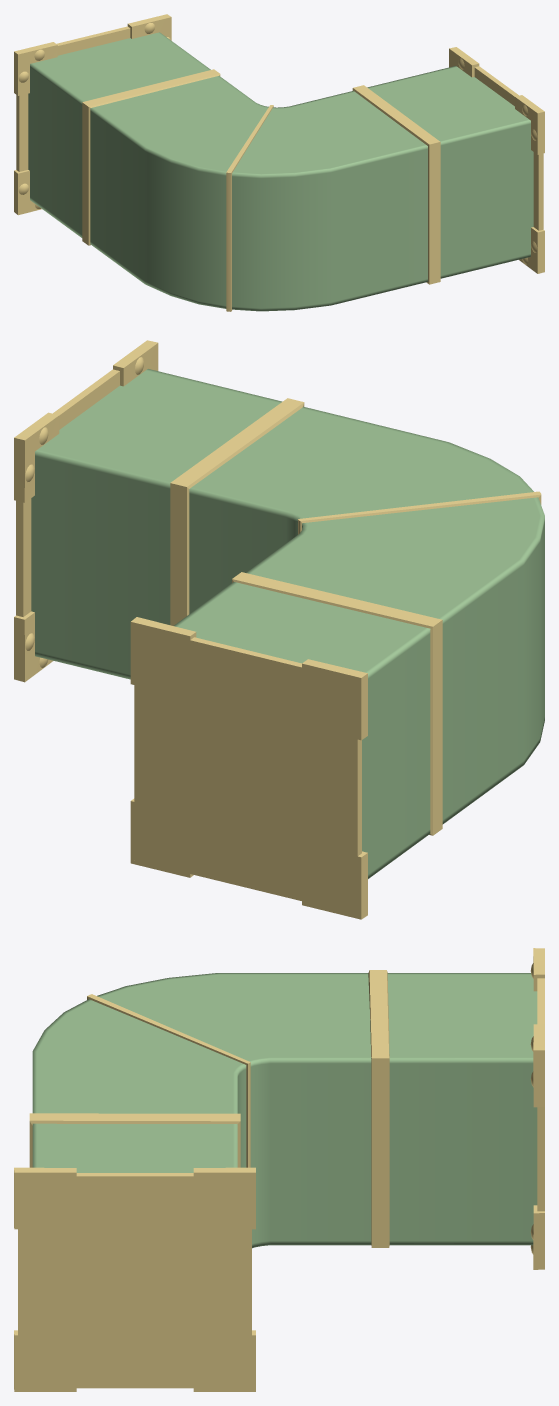
File: Ventilating_Duct_01a_snaps020.FBX
3 renders of one model, top to bottom at view 1: azimuth 30°, elevation 25°; view 2: azimuth 150°, elevation 25°; view 3: azimuth 270°, elevation 25°, orthographic. The views are drawn at different scales.
Parts seen in each view (by area): view 1: Ventilating_Duct_01a_snaps020_LOD0; view 2: Ventilating_Duct_01a_snaps020_LOD0; view 3: Ventilating_Duct_01a_snaps020_LOD0.
Part boxes in pixels (x1,y1,x2,y2): Ventilating_Duct_01a_snaps020_LOD0: (14, 14, 544, 311); Ventilating_Duct_01a_snaps020_LOD0: (14, 340, 544, 919); Ventilating_Duct_01a_snaps020_LOD0: (14, 948, 544, 1391).
Size of what is drawn, in the model's own units: 1.3 by 0.5908 by 1.3.
